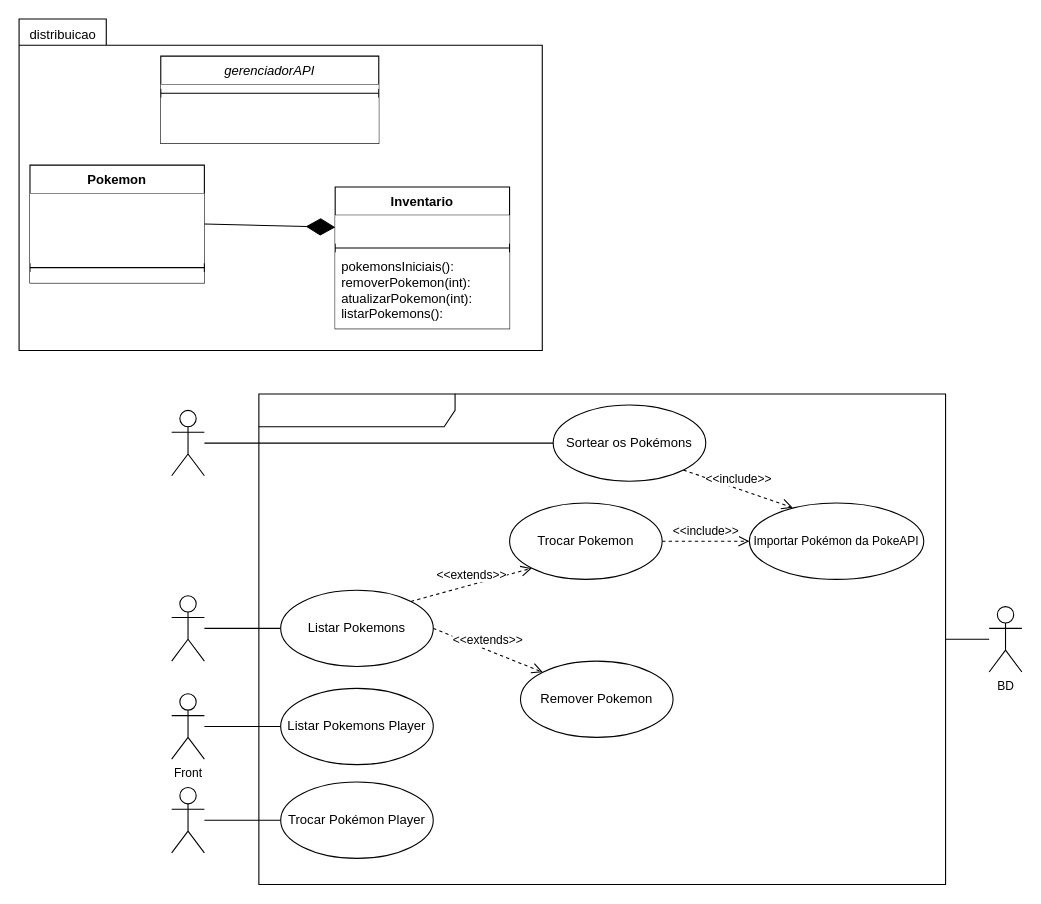
Some shapes in this 1041 by 904 pixel diagram are drawn without their labels. The shapes that lost their labels are listed below. From the top down, each one's centre as x and y in pixels, then its label:
At (x=269, y=120): "conexaoAPI(): getPokemon(int): Pokemon".
At (x=116, y=228): "+ vida: int + tipo: string + dano: int + descricao: string + etc...".
At (x=422, y=229): "+ pokemons: Pokemon[5]".
At (x=187, y=442): "Sistema de Login".
At (x=187, y=628): "ADM".
At (x=602, y=639): "Sistema de Distribuicao de Cartas".
At (x=187, y=819): "Usuá rio".
